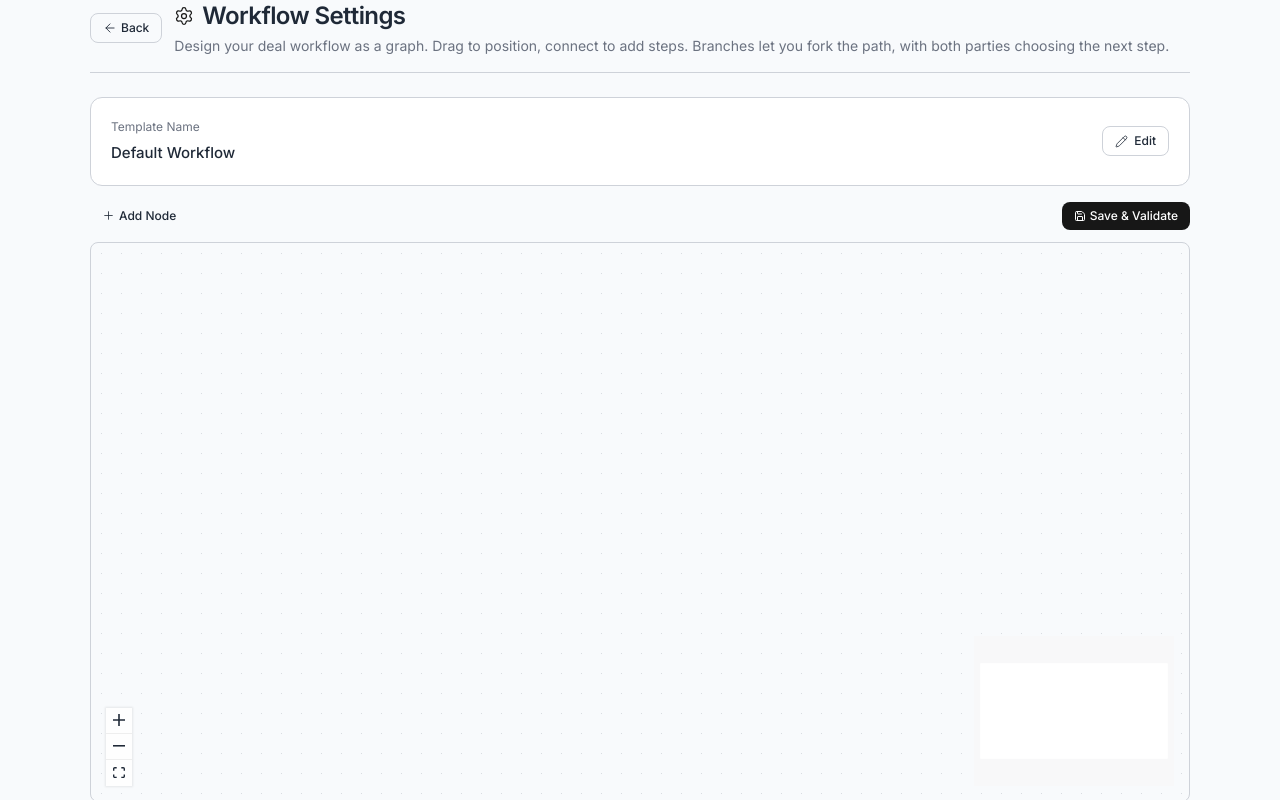
WorkflowSettingsPage › opens add node modal when Add Node clicked
Click the button with test id "add-node-btn": (139, 216) 90,202 -> 188,230
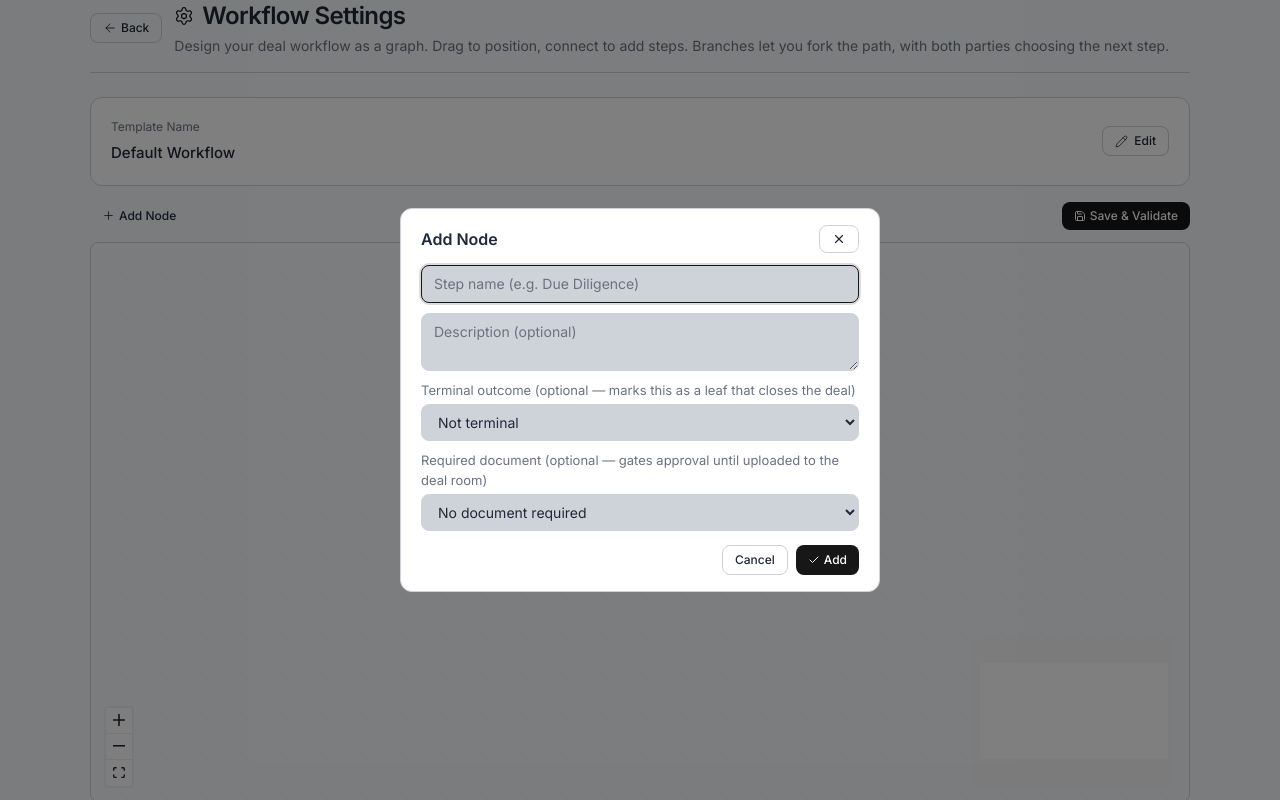
Expected: the element with test id "node-form-modal" is shown
Expected: the field with test id "node-name-input" is shown, 421,265 -> 859,303
Expected: the dropdown with test id "node-terminal-input" is shown, 421,404 -> 859,441
